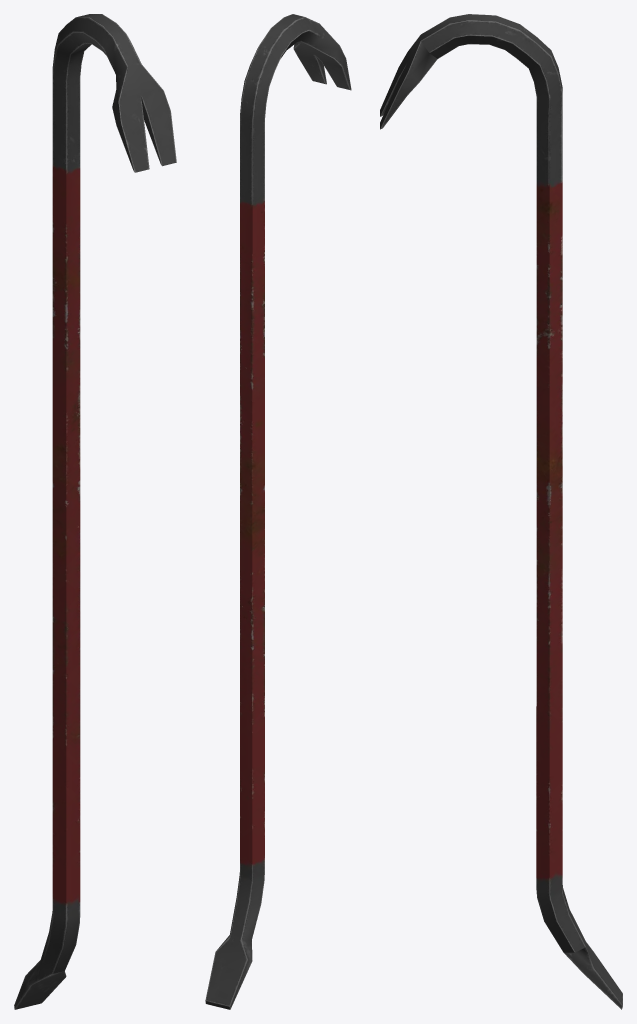
File: Crowbar.glb
3 views of the same model, side by side, from view 1: azimuth 30°, elevation 25°; view 2: azimuth 150°, elevation 25°; view 3: azimuth 270°, elevation 25° (orthographic). The views are drawn at different scales.
Visible parts, largest first — view 1: Crowbar; view 2: Crowbar; view 3: Crowbar.
Part boxes in pixels (x1=…): Crowbar: x1=14, y1=14, x2=176, y2=1009; Crowbar: x1=205, y1=14, x2=351, y2=1009; Crowbar: x1=380, y1=14, x2=622, y2=1009.
Size of the model in its own units: 0.0304 by 0.6067 by 0.1354.
Materials: 1 (1 with a texture image).
